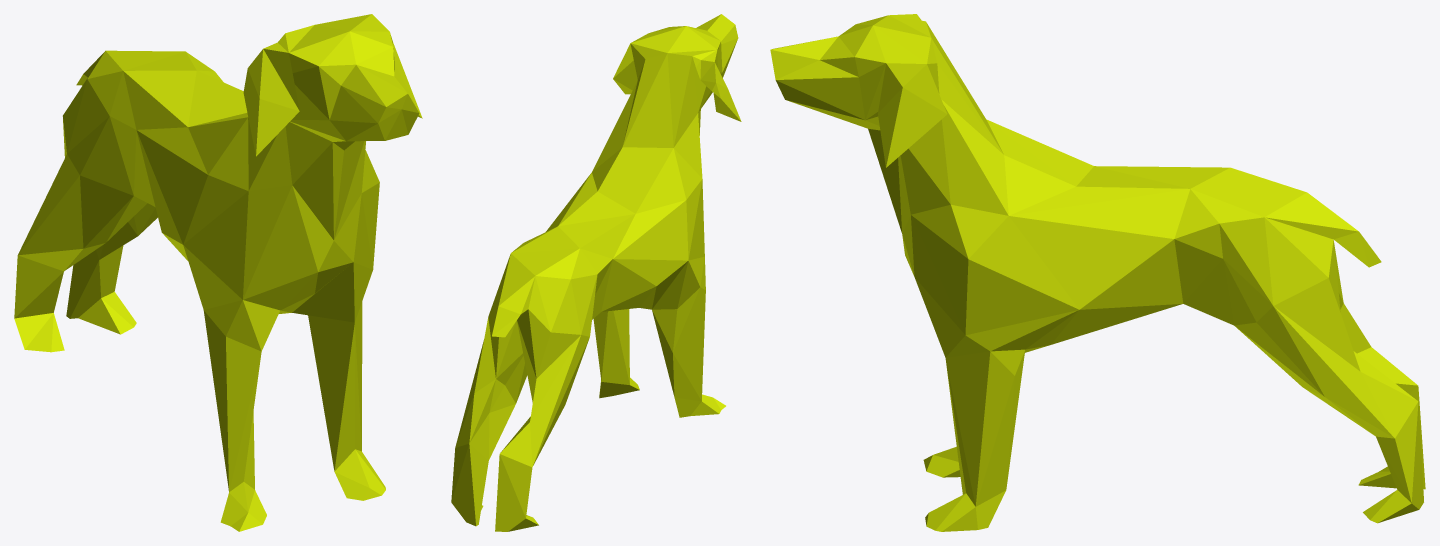
File: dog.glb
The picture shows the model from 3 angles, left to right: view 1: azimuth 30°, elevation 25°; view 2: azimuth 150°, elevation 25°; view 3: azimuth 270°, elevation 25°; orthographic projection. The views are drawn at different scales.
Parts seen in each view (by area): view 1: Low_Poly_Dog; view 2: Low_Poly_Dog; view 3: Low_Poly_Dog.
Boxes of the visible parts, left/top/right/bottom form: Low_Poly_Dog: left=14, top=14, right=422, bottom=531; Low_Poly_Dog: left=451, top=14, right=741, bottom=531; Low_Poly_Dog: left=770, top=14, right=1425, bottom=531.
Size of the model in its own units: 27.81 by 78.53 by 98.55.
